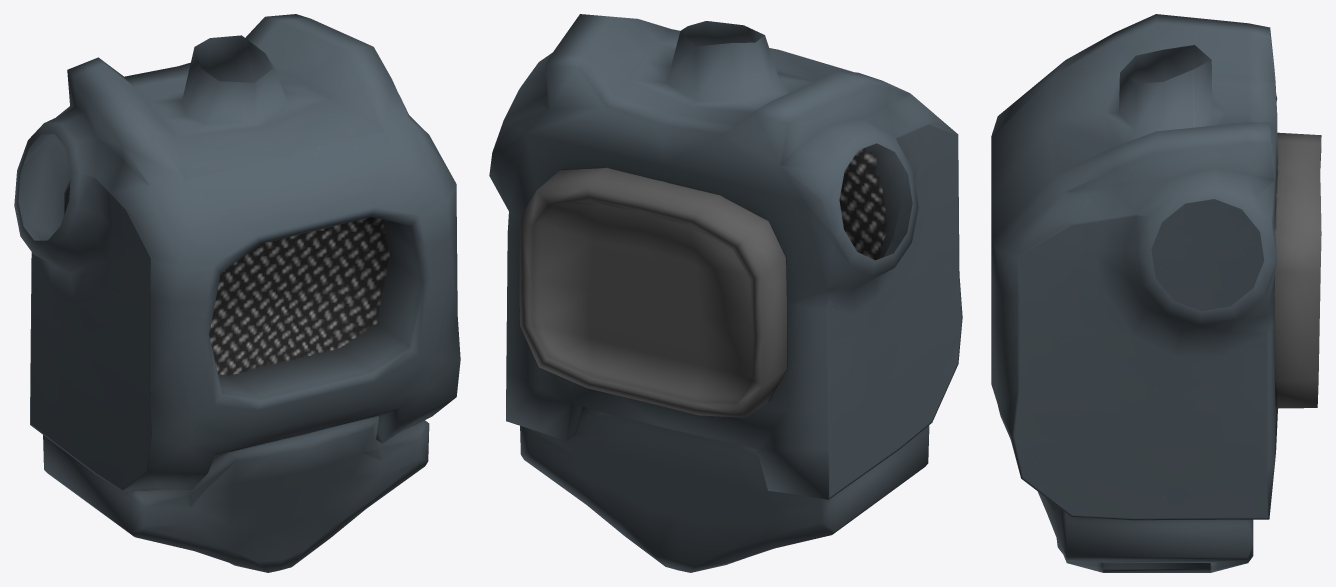
Rendered from Fire Heart Form.fbx.
3 renders of one model, left to right at view 1: azimuth 30°, elevation 25°; view 2: azimuth 150°, elevation 25°; view 3: azimuth 270°, elevation 25°, orthographic. The views are drawn at different scales.
Parts seen in each view (by area): view 1: Fire Heart Form; view 2: Fire Heart Form; view 3: Fire Heart Form.
Part boxes in pixels (x1,y1,x2,y2): Fire Heart Form: (14, 14, 460, 572); Fire Heart Form: (489, 14, 962, 572); Fire Heart Form: (991, 14, 1321, 572).
Size of the model in its own units: 332 by 424 by 252.
1 material, 1 textured.
